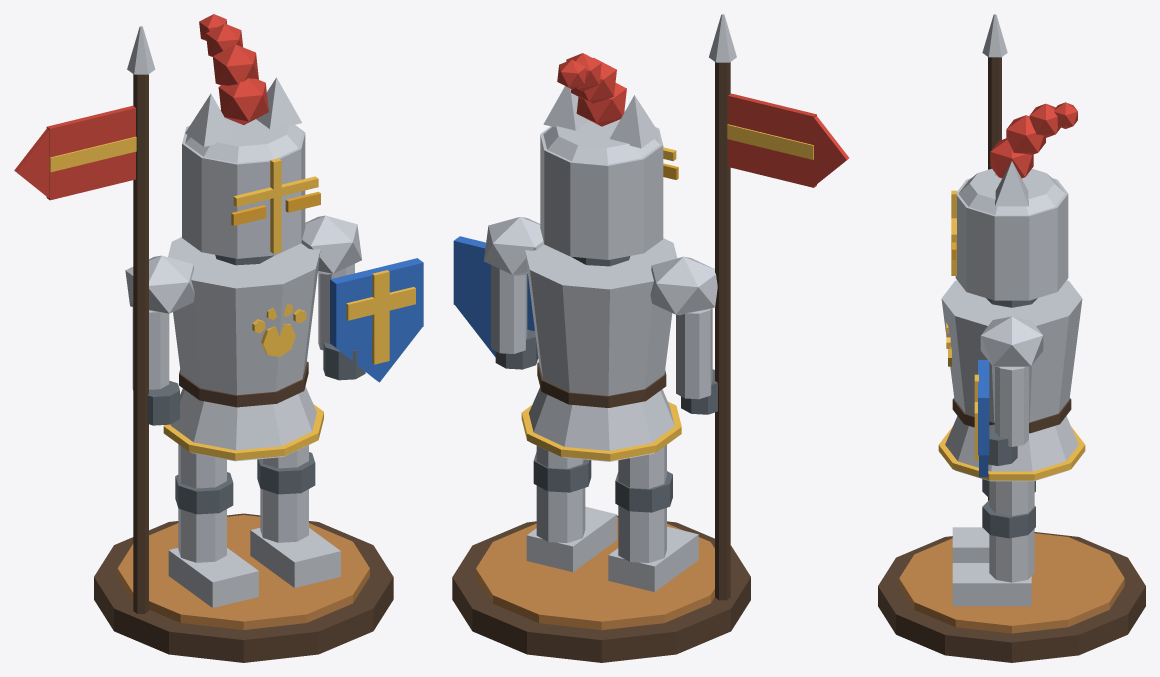
The model's file is CatCafe_Decor_ArmourStand.glb.
3 views of the same model, side by side, from view 1: azimuth 30°, elevation 25°; view 2: azimuth 150°, elevation 25°; view 3: azimuth 270°, elevation 25° (orthographic). The views are drawn at different scales.
Visible parts, largest first — view 1: CatCafe_Decor_ArmourStand, CatCafe_Decor_ArmourStand_Glow; view 2: CatCafe_Decor_ArmourStand; view 3: CatCafe_Decor_ArmourStand.
Part boxes in pixels (x1,y1,x2,y2): CatCafe_Decor_ArmourStand: [14, 14, 423, 662]; CatCafe_Decor_ArmourStand_Glow: [231, 191, 320, 225]; CatCafe_Decor_ArmourStand: [452, 14, 849, 662]; CatCafe_Decor_ArmourStand: [878, 14, 1145, 662].
Bounding box in the file's own units: 2.92 × 4.25 × 1.9.
Materials: 1 (1 with a texture image).
